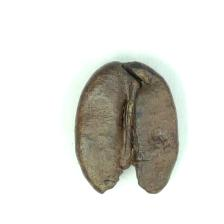NG: (95, 158, 164, 195)
